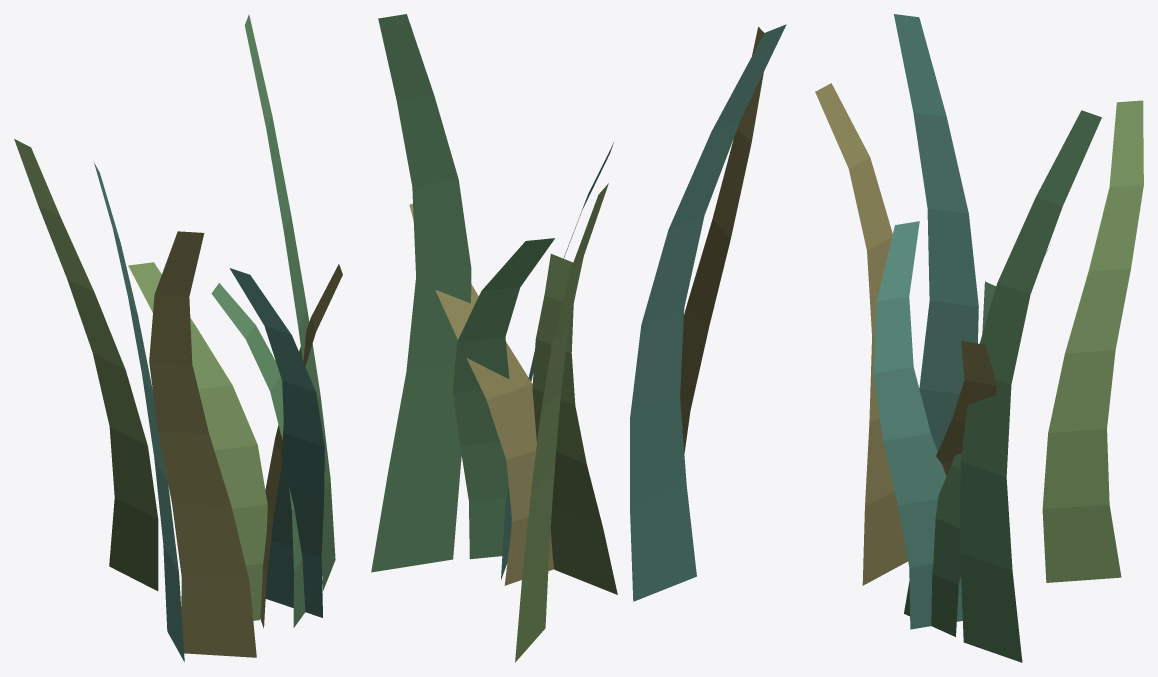
Rendered from seaweed.glb.
The picture shows the model from 3 angles, left to right: view 1: azimuth 30°, elevation 25°; view 2: azimuth 150°, elevation 25°; view 3: azimuth 270°, elevation 25°; orthographic projection. The views are drawn at different scales.
Visible parts, largest first — view 1: seaweed; view 2: seaweed; view 3: seaweed.
Part boxes in pixels (x1,y1,x2,y2): seaweed: (14, 14, 342, 661); seaweed: (371, 14, 786, 662); seaweed: (815, 14, 1143, 662).
Size of the model in its own units: 0.6768 by 1.14 by 0.647.
